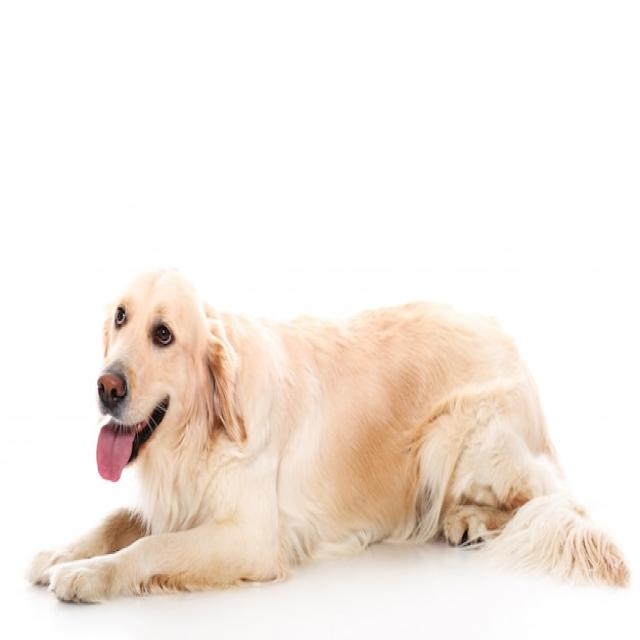Dog: (27, 267, 631, 602)
